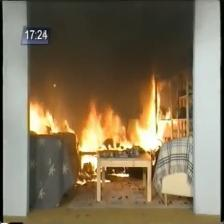fire: (81, 107, 130, 151), (141, 91, 166, 146), (29, 102, 59, 133)
